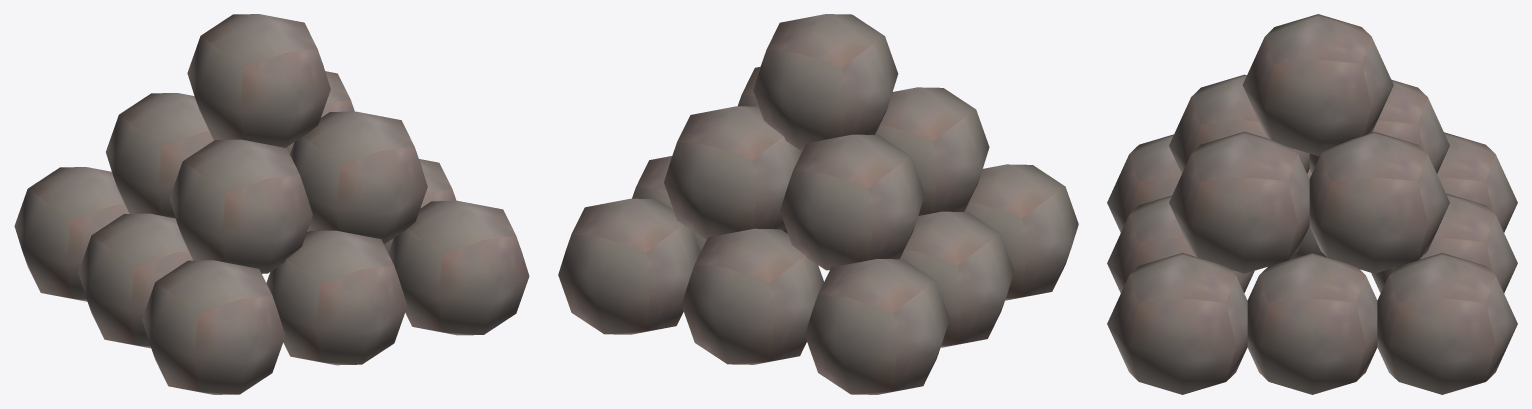
3 views of the same model, side by side, from view 1: azimuth 30°, elevation 25°; view 2: azimuth 150°, elevation 25°; view 3: azimuth 270°, elevation 25° (orthographic).
Visible parts, largest first — view 1: SM_Castle_CannonBalls_01_v1_LOD0; view 2: SM_Castle_CannonBalls_01_v1_LOD0; view 3: SM_Castle_CannonBalls_01_v1_LOD0.
Part boxes in pixels (bbox=[...]): SM_Castle_CannonBalls_01_v1_LOD0: bbox=[14, 14, 529, 394]; SM_Castle_CannonBalls_01_v1_LOD0: bbox=[558, 14, 1078, 394]; SM_Castle_CannonBalls_01_v1_LOD0: bbox=[1107, 14, 1517, 394].
Bounding box in the file's own units: 1.03 × 0.8044 × 0.9652.
1 material, 1 textured.
